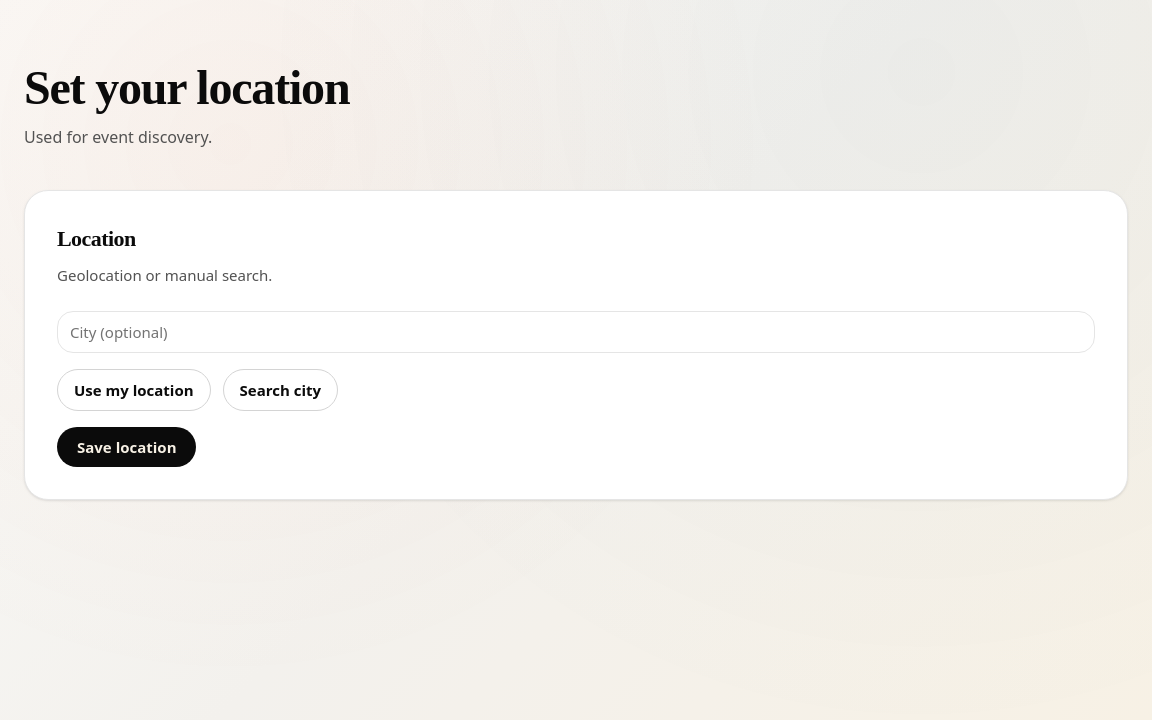
Test case: LocationOnboardingPage — geolocation and search branches › tolerates a failed reverse-geocode and a save failure
Click the button "Use my location". click: (134, 390)
box: [57,369,211,411]
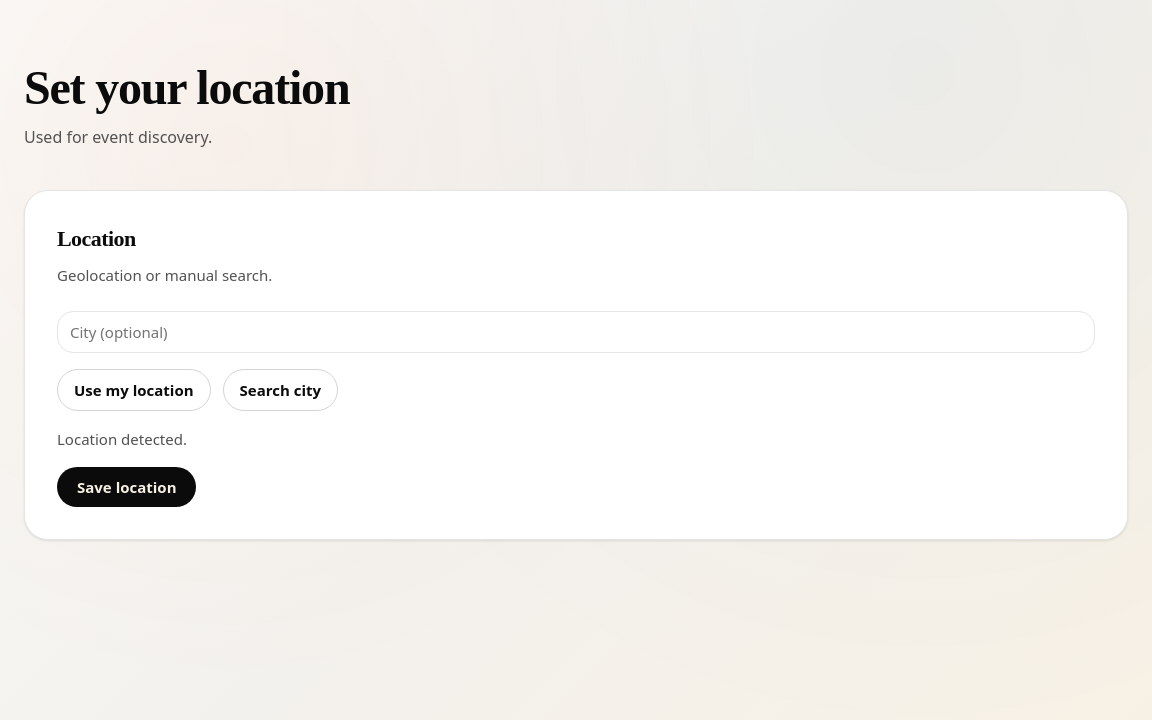
Expected: the field with placeholder "City (optional)" is empty, [57,311,1095,353]
Now the text "Location detected." is shown, box [57,429,187,449]
Click the button "Save location". click: (127, 487)
box: [57,467,196,507]
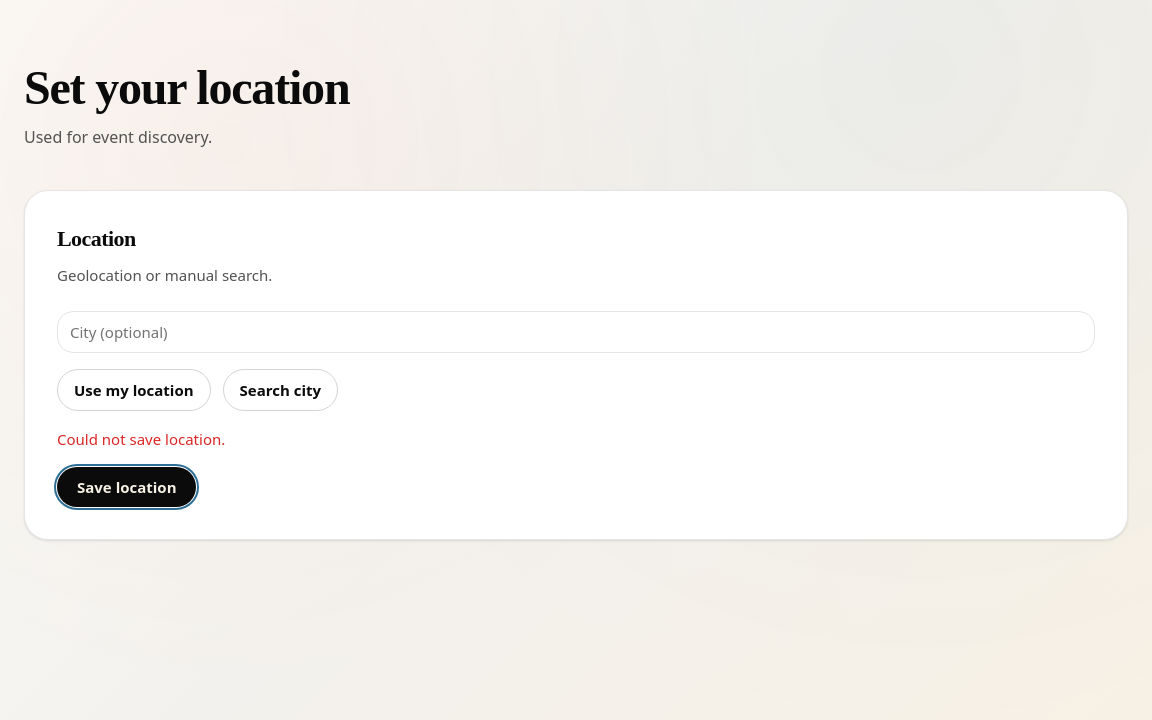
Now the text "Could not save location." is shown, box [57,429,225,449]
